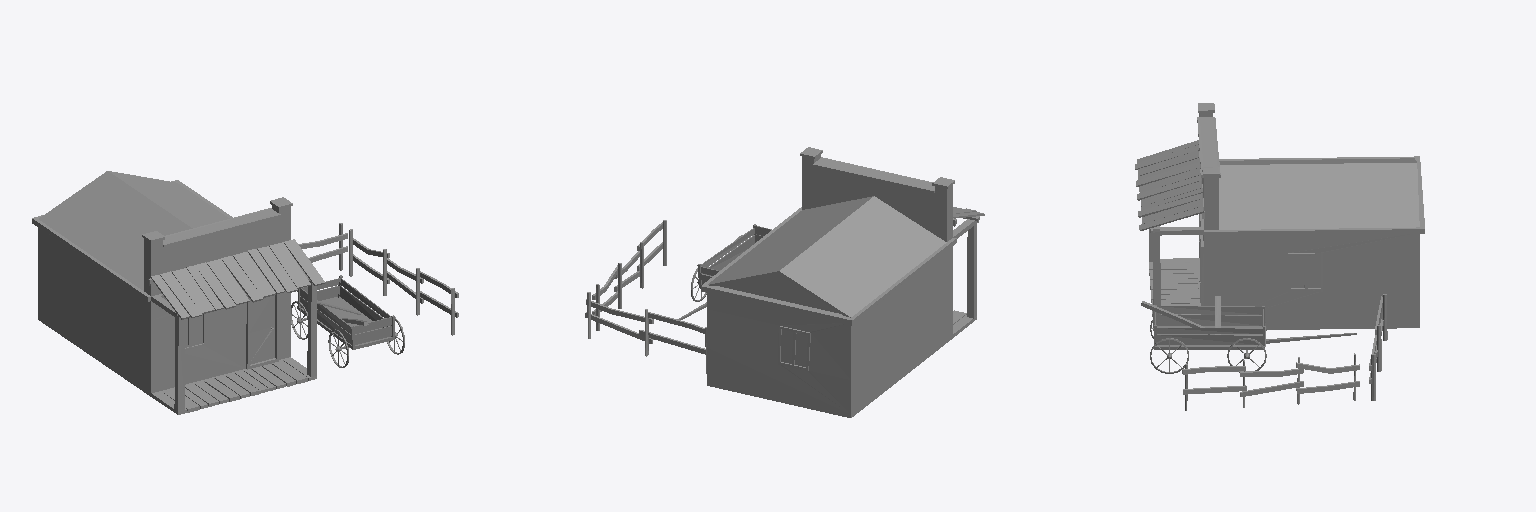
The model's file is house4.obj.
The picture shows the model from 3 angles: view 1: azimuth 30°, elevation 25°; view 2: azimuth 150°, elevation 25°; view 3: azimuth 270°, elevation 25°; orthographic projection.
Parts seen in each view (by area): view 1: west_town_finish; view 2: west_town_finish; view 3: west_town_finish.
Part boxes in pixels (x1,y1,x2,y2): west_town_finish: (32, 171, 458, 414); west_town_finish: (585, 147, 984, 417); west_town_finish: (1135, 103, 1424, 410).
Size of the model in its own units: 0.5859 by 0.2949 by 0.4782.